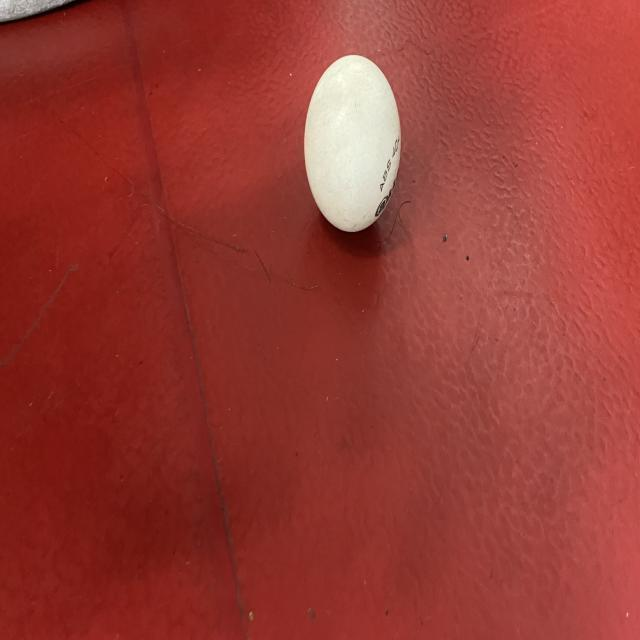ping-pong-ball: (303, 49, 403, 239)
